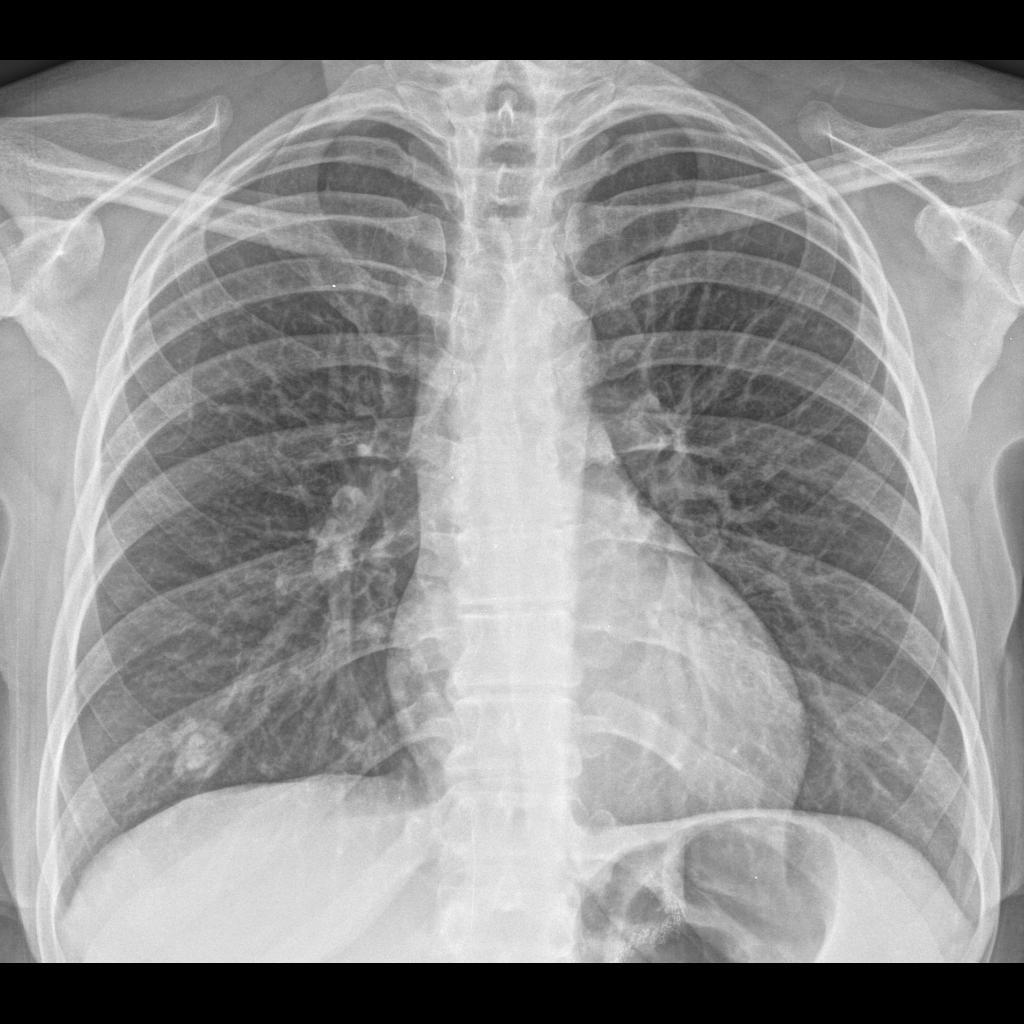Nodule: (148, 701, 247, 797)
